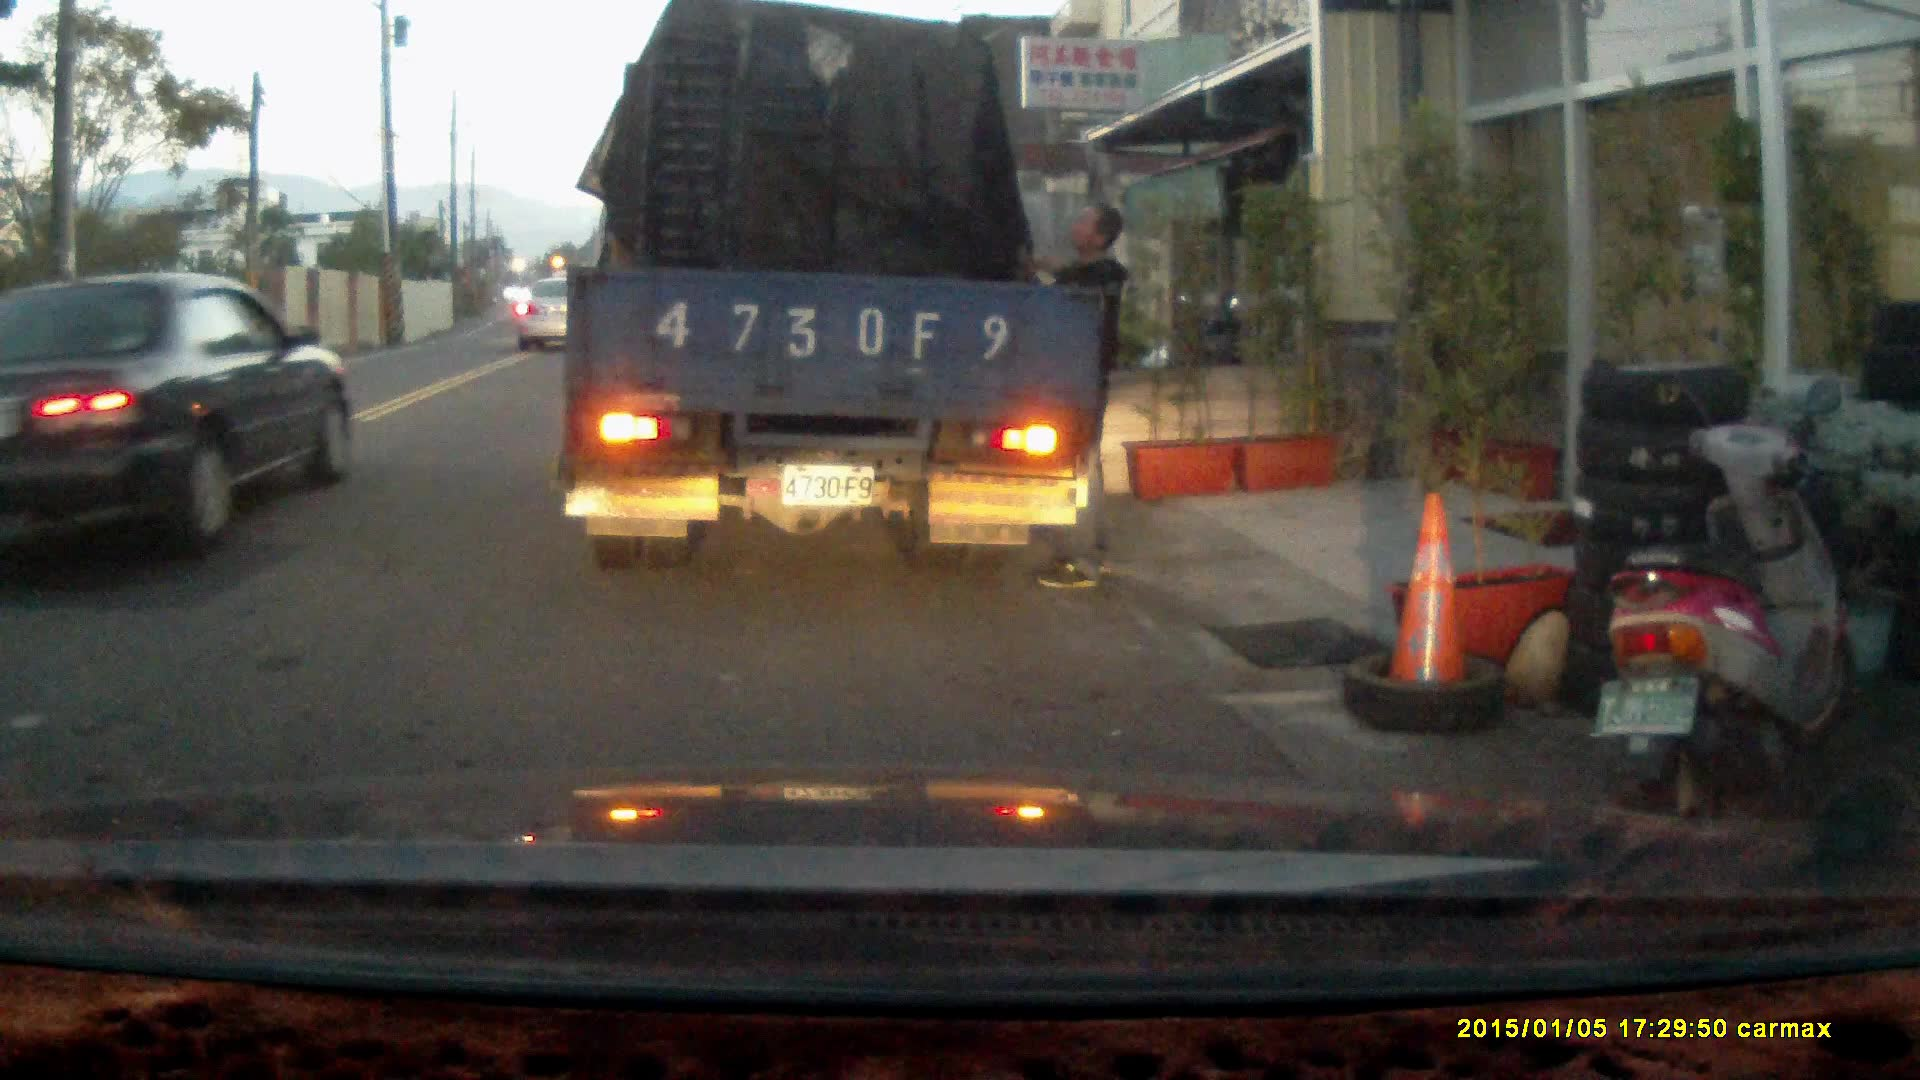pedestrian: (1010, 199, 1128, 590)
vehicle: (565, 23, 1097, 572), (1, 270, 357, 565), (513, 272, 597, 352)
